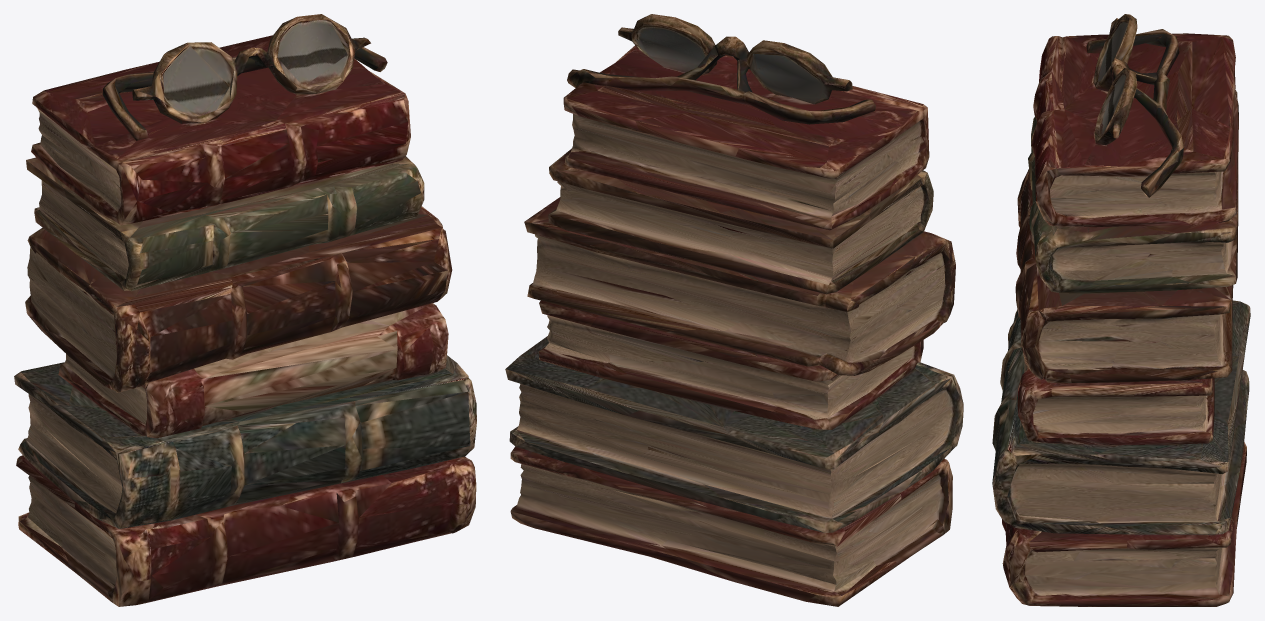
File: p_book_stack.glb
3 renders of one model, left to right at view 1: azimuth 30°, elevation 25°; view 2: azimuth 150°, elevation 25°; view 3: azimuth 270°, elevation 25°, orthographic. The views are drawn at different scales.
Parts seen in each view (by area): view 1: p_book_stack; view 2: p_book_stack; view 3: p_book_stack.
Boxes of the visible parts, left/top/right/bottom form: p_book_stack: left=14, top=14, right=476, bottom=606; p_book_stack: left=505, top=14, right=963, bottom=606; p_book_stack: left=992, top=14, right=1250, bottom=606.
Size of the model in its own units: 0.2223 by 0.3 by 0.1453.
1 material, 1 textured.
